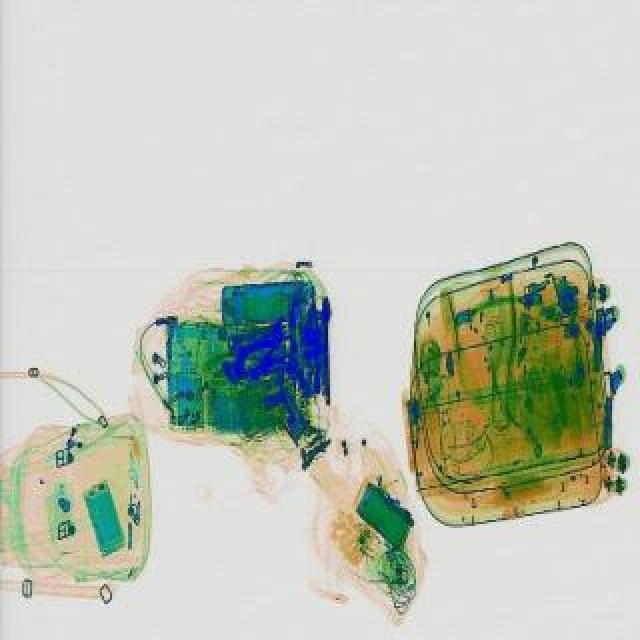scissors: (222, 312, 290, 354), (316, 294, 334, 402)
